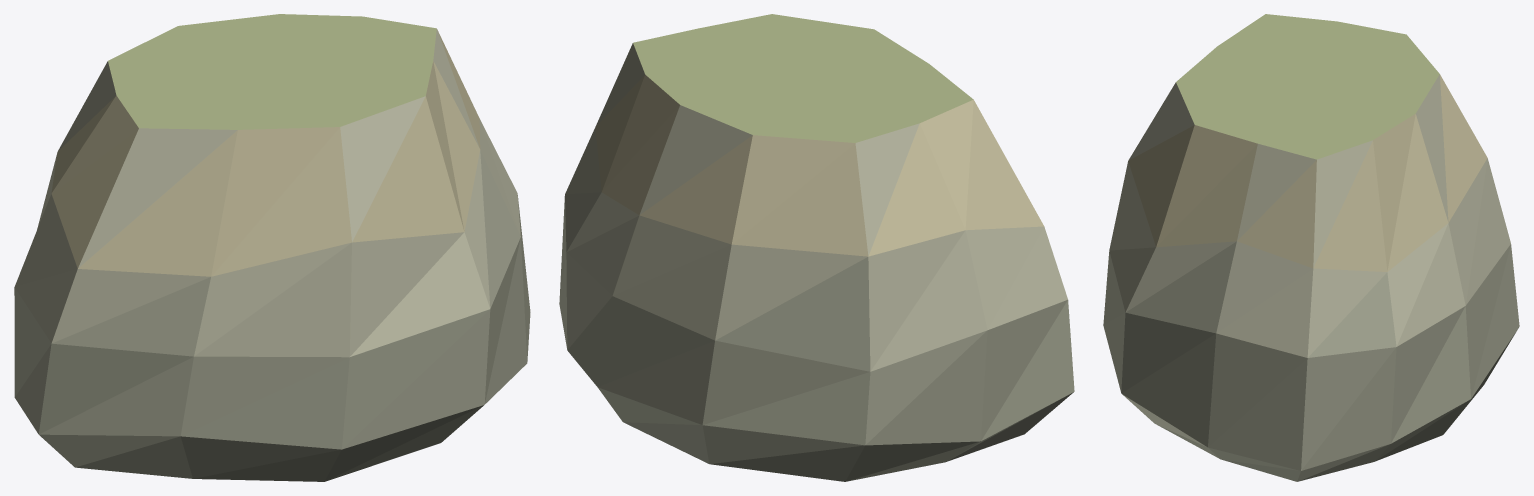
File: rock_coastal_a.glb
3 renders of one model, left to right at view 1: azimuth 30°, elevation 25°; view 2: azimuth 150°, elevation 25°; view 3: azimuth 270°, elevation 25°, orthographic. The views are drawn at different scales.
Visible parts, largest first — view 1: rock_coastal_a; view 2: rock_coastal_a; view 3: rock_coastal_a.
Part boxes in pixels (x1,y1,x2,y2): rock_coastal_a: (14,14,530,481); rock_coastal_a: (559,14,1074,481); rock_coastal_a: (1103,14,1519,481).
Bounding box in the file's own units: 2.94 × 1.8 × 2.25.
